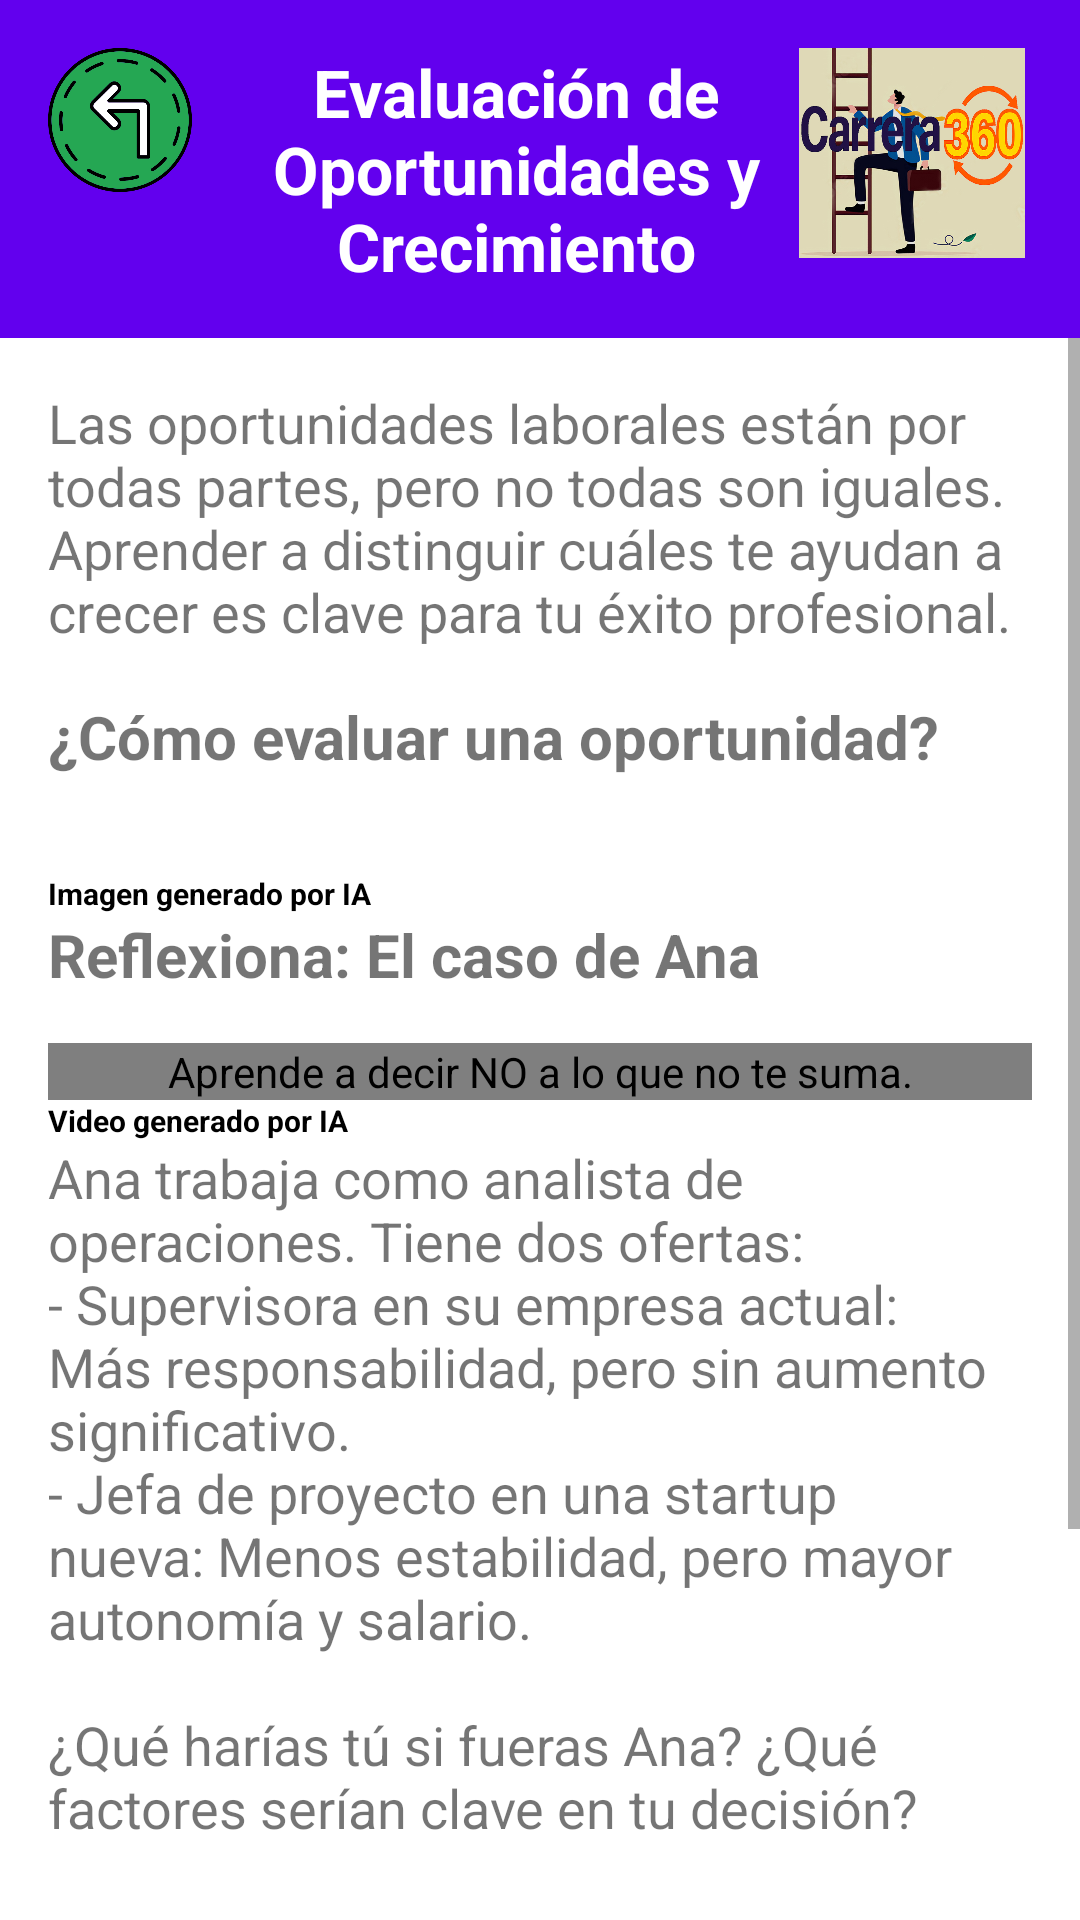

Named icons in this screenshot (1080px x 1920px) and their centers, (x,y):
Regresar a Inicio: (120,120)
